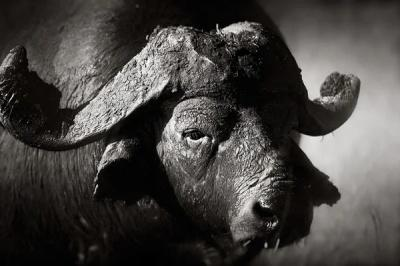buffalo: (0, 0, 359, 264)
